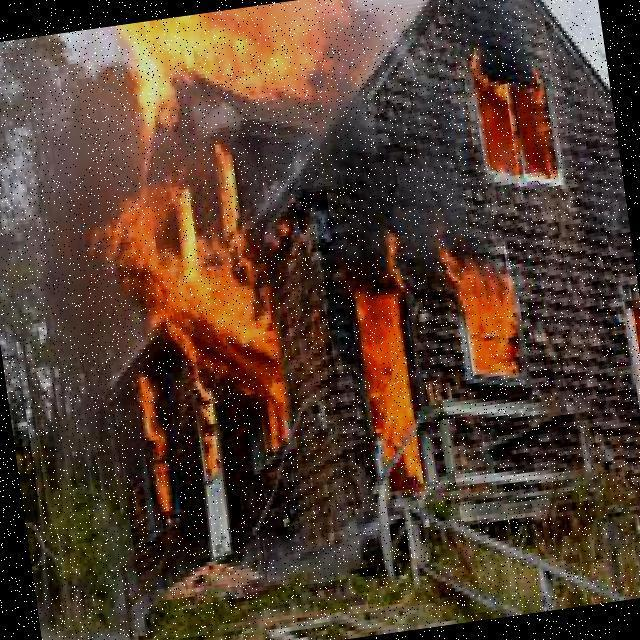fire: (111, 161, 296, 455), (343, 275, 427, 498), (430, 216, 526, 389), (466, 52, 563, 192), (136, 380, 187, 525)
smoke: (0, 59, 134, 367), (286, 93, 474, 242)
